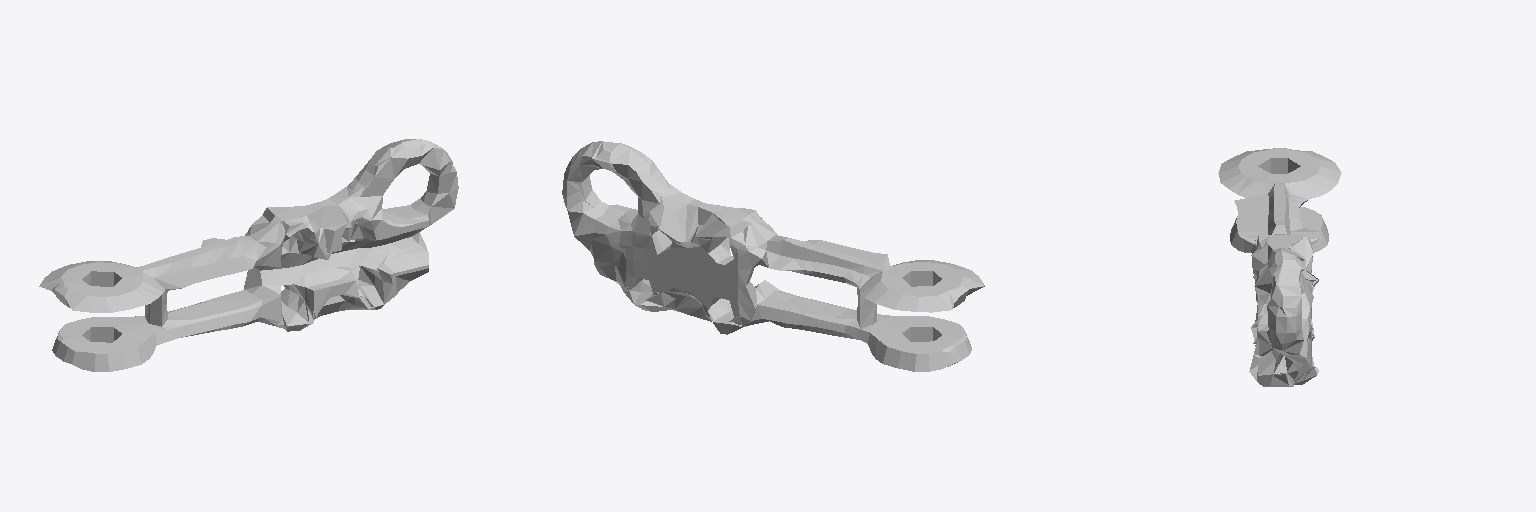
3 views of the same model, side by side, from view 1: azimuth 30°, elevation 25°; view 2: azimuth 150°, elevation 25°; view 3: azimuth 270°, elevation 25° (orthographic).
Parts seen in each view (by area): view 1: Grapa_Retencion_Recta_2-0; view 2: Grapa_Retencion_Recta_2-0; view 3: Grapa_Retencion_Recta_2-0.
Boxes of the visible parts, <box> form: Grapa_Retencion_Recta_2-0: <box>39,139,458,371</box>; Grapa_Retencion_Recta_2-0: <box>562,141,984,371</box>; Grapa_Retencion_Recta_2-0: <box>1218,148,1341,386</box>.
Bounding box in the file's own units: 10.61 × 3.9 × 2.82.